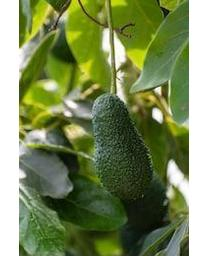avocado: (91, 92, 156, 203)
